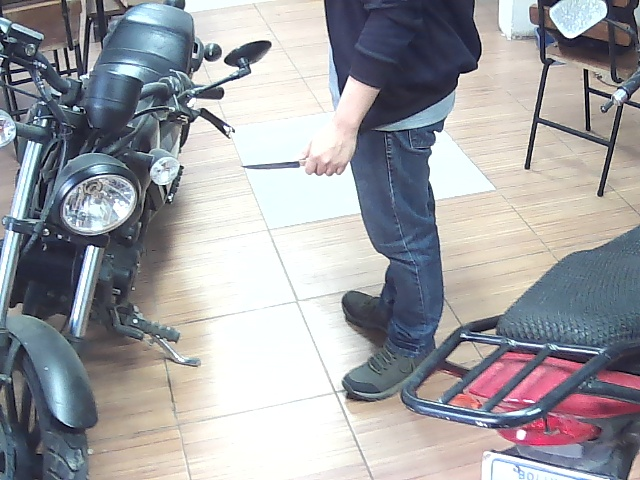cuchillo: (226, 131, 358, 186)
